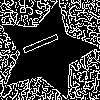I: (21, 26, 69, 57)
